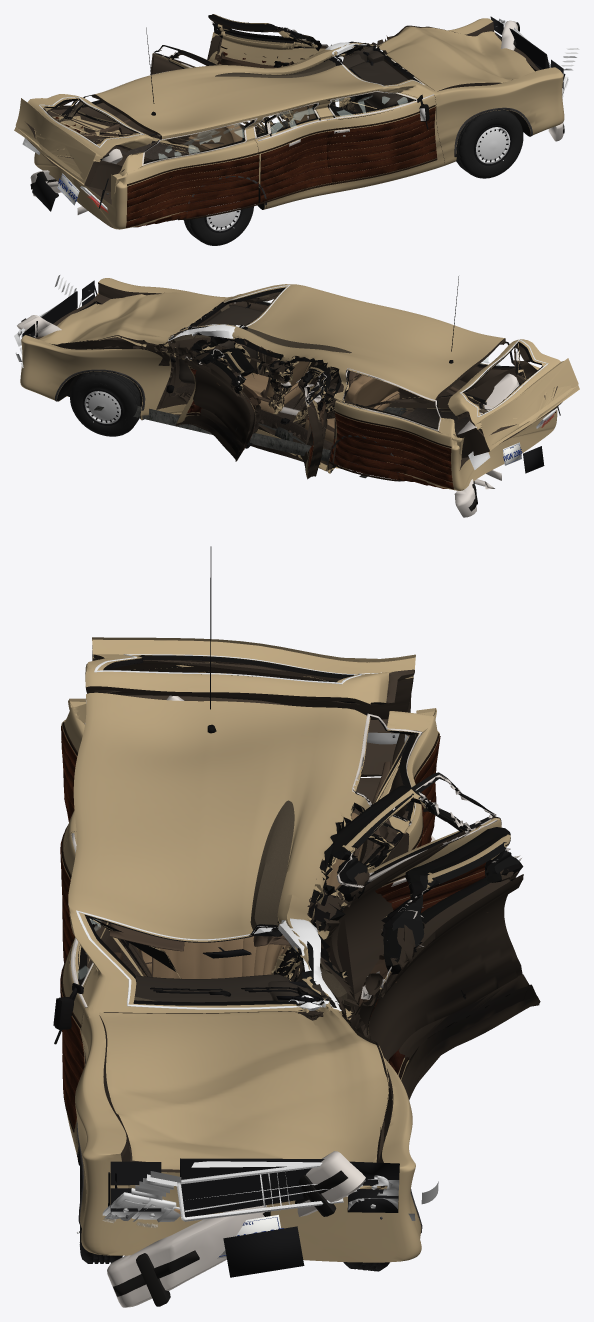
Rendered from wagon82_side_d3_lod1.glb.
3 views of the same model, one above another, from view 1: azimuth 30°, elevation 25°; view 2: azimuth 150°, elevation 25°; view 3: azimuth 270°, elevation 25° (orthographic). The views are drawn at different scales.
Parts seen in each view (by area): view 1: Body, Trim, Hood, Trim_FR, Tailgate, Interior, Trim_RR, Door_FL, Wheel_FR_mesh, Door_FR, Ends, Door_RR (+9 smaller); view 2: Body, Trim, Tailgate, Hood, Door_FL, Interior, Wheel_FL_mesh, Ends, Underbody, Door_RL, Bumper_R, Glass (+7 smaller); view 3: Body, Hood, Door_FL, Tailgate, Ends, Interior, Bumper_F, Door_RL, Trim, Glass, Trim_FR, Trim_RL (+5 smaller).
Part boxes in pixels (<box>): Body: <box>34,18,564,229</box>; Trim: <box>55,27,532,227</box>; Hood: <box>378,25,534,91</box>; Trim_FR: <box>326,91,437,184</box>; Tailgate: <box>14,94,152,191</box>; Interior: <box>81,44,409,159</box>; Trim_RR: <box>253,102,331,202</box>; Door_FL: <box>207,14,335,106</box>; Wheel_FR_mesh: <box>456,110,523,178</box>; Door_FR: <box>326,90,444,192</box>; Ends: <box>22,16,579,211</box>; Door_RR: <box>254,102,331,208</box>; Body: <box>20,278,557,490</box>; Trim: <box>54,276,513,489</box>; Tailgate: <box>447,339,579,457</box>; Hood: <box>38,292,226,349</box>; Door_FL: <box>175,348,255,461</box>; Interior: <box>173,299,488,446</box>; Wheel_FL_mesh: <box>70,371,140,436</box>; Ends: <box>14,275,560,473</box>; Underbody: <box>94,388,494,489</box>; Door_RL: <box>298,364,329,479</box>; Bumper_R: <box>454,373,520,517</box>; Glass: <box>168,285,513,430</box>; Body: <box>61,692,439,1262</box>; Hood: <box>99,1007,389,1188</box>; Door_FL: <box>358,827,540,1099</box>; Tailgate: <box>85,637,415,776</box>; Ends: <box>102,732,438,1277</box>; Interior: <box>109,761,391,1004</box>; Bumper_F: <box>107,1151,365,1307</box>; Door_RL: <box>329,785,501,1001</box>; Trim: <box>60,546,440,1232</box>; Glass: <box>76,713,421,1011</box>; Trim_FR: <box>53,903,122,1132</box>; Trim_RL: <box>336,774,497,912</box>.
Size of the model in its own units: 5.23 by 2.02 by 2.16.
Materials: 35 (6 with a texture image).
